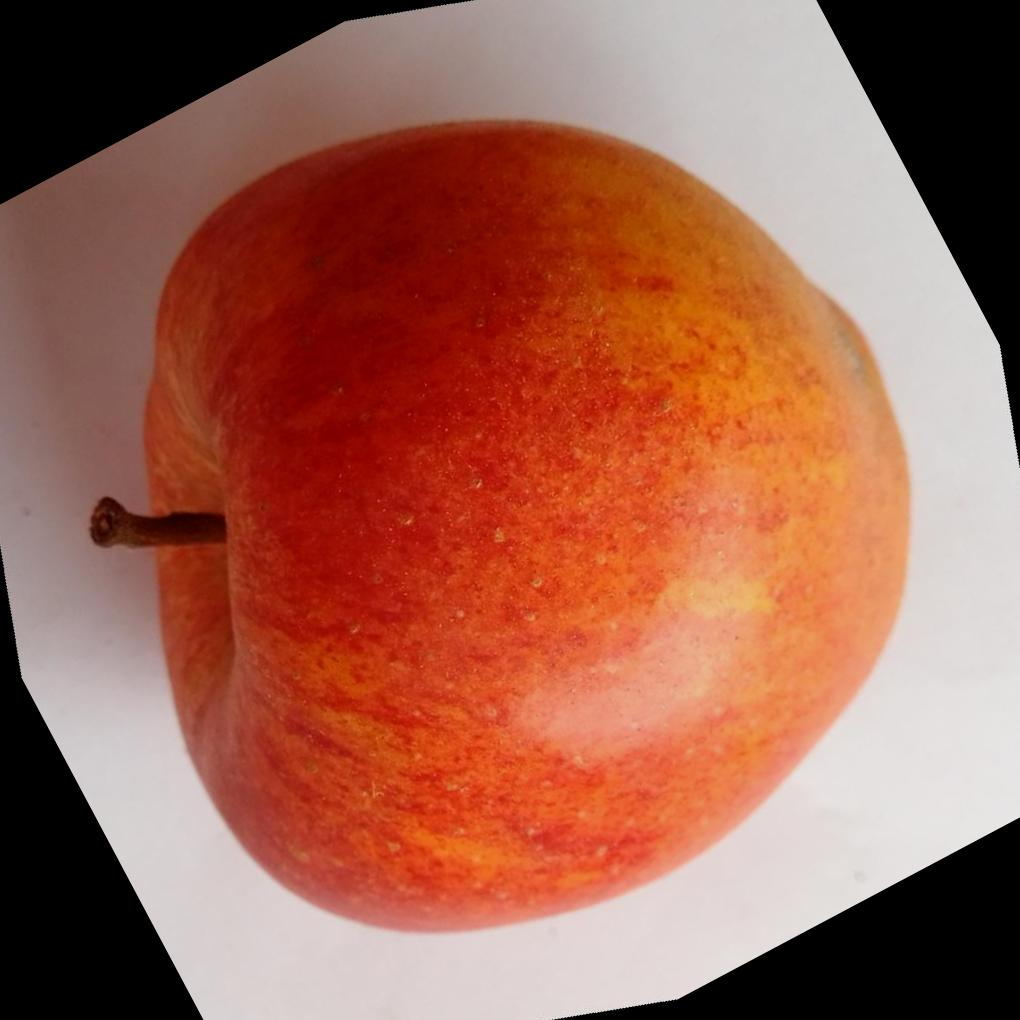FreshGuava: (87, 118, 915, 939)
